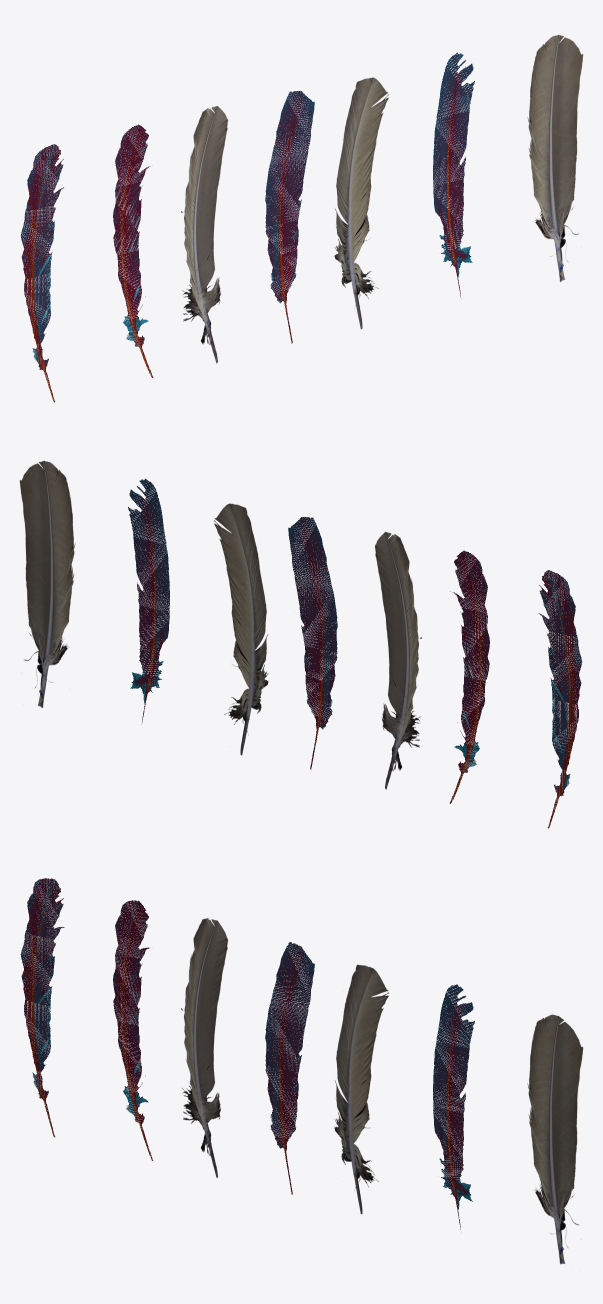
File: feather.glb
3 views of the same model, one above another, from view 1: azimuth 30°, elevation 25°; view 2: azimuth 150°, elevation 25°; view 3: azimuth 330°, elevation 25° (orthographic).
Visible parts, largest first — view 1: Object_3, Object_2; view 2: Object_3, Object_2; view 3: Object_3, Object_2.
Part boxes in pixels (<box>): Object_3: <box>20,52,474,402</box>; Object_2: <box>181,34,583,363</box>; Object_3: <box>128,478,582,828</box>; Object_2: <box>19,460,421,789</box>; Object_3: <box>20,878,474,1229</box>; Object_2: <box>181,918,583,1264</box>.
Bounding box in the file's own units: 666 × 321 × 7.14e-14.
2 materials, 2 textured.
